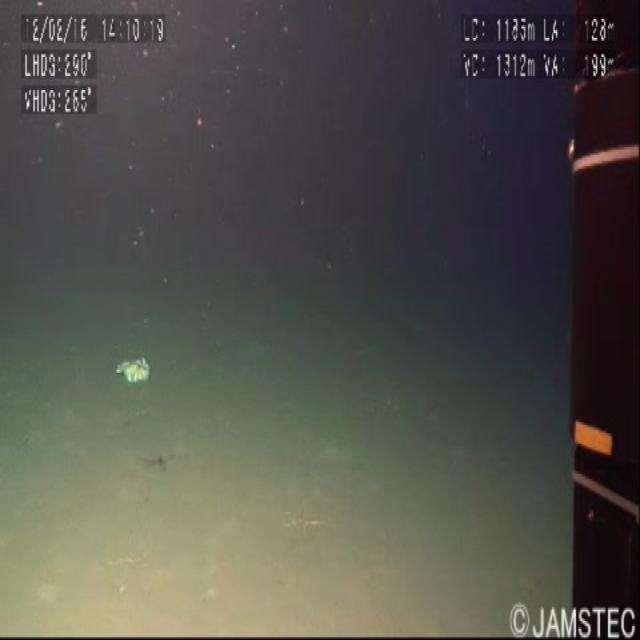Litter: (110, 339, 163, 402)
